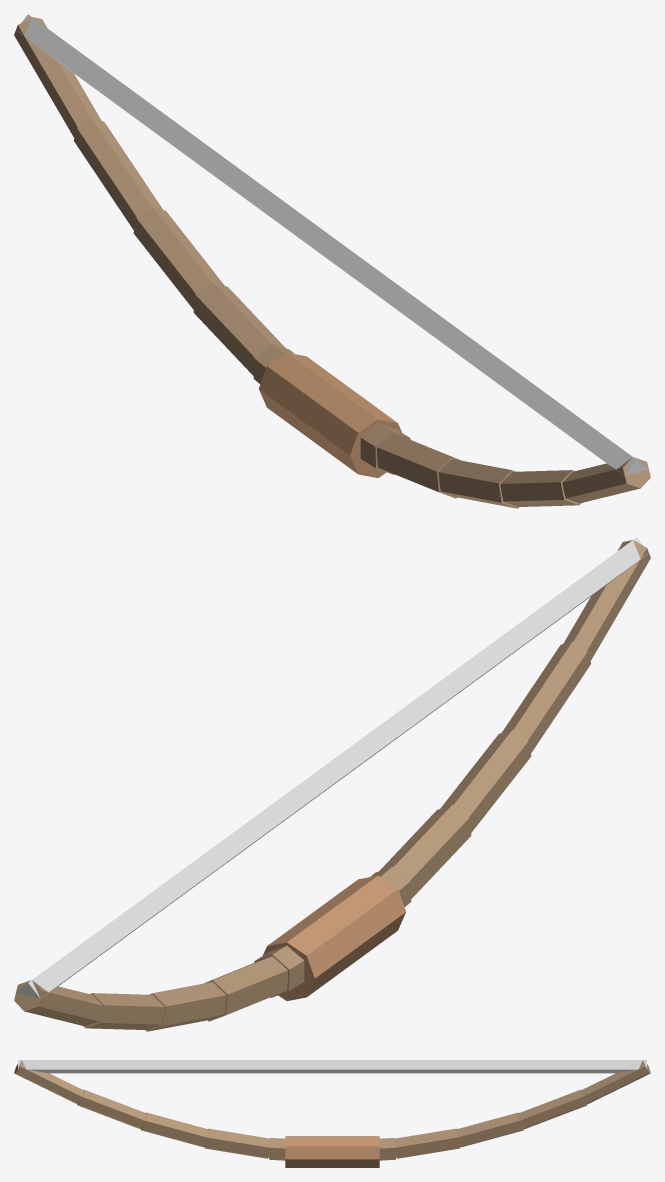
The model's file is bow_left_held.gltf.
The picture shows the model from 3 angles, top to bottom: view 1: azimuth 30°, elevation 25°; view 2: azimuth 150°, elevation 25°; view 3: azimuth 270°, elevation 25°; orthographic projection. The views are drawn at different scales.
Visible parts, largest first — view 1: archery_bow_left_held; view 2: archery_bow_left_held; view 3: archery_bow_left_held.
Part boxes in pixels (box(x1,y1,x2,y2)): archery_bow_left_held: box(14, 14, 650, 508); archery_bow_left_held: box(14, 537, 650, 1031); archery_bow_left_held: box(14, 1060, 650, 1167).
Size of the model in its own units: 0.032 by 0.113 by 0.6076.
